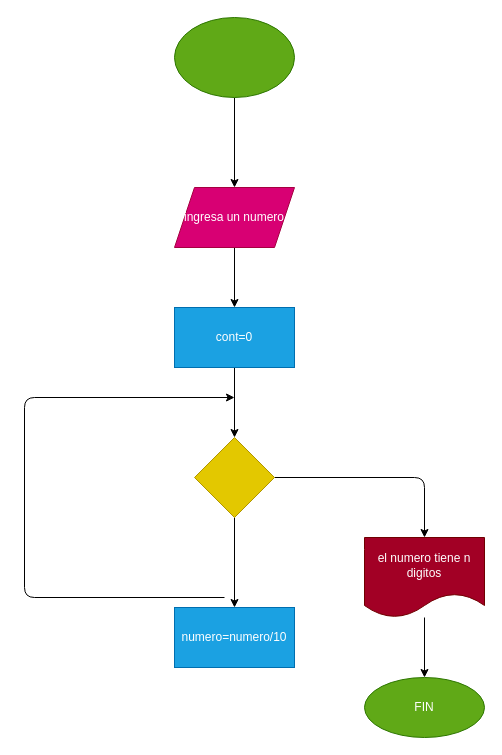
This 502x755 diagram has some shape labels left out. The box of each missing label's shape, as (x1, y1, x2, y2) in pixels:
INICIO: (174, 16, 294, 98)
numero>0: (194, 436, 274, 518)
